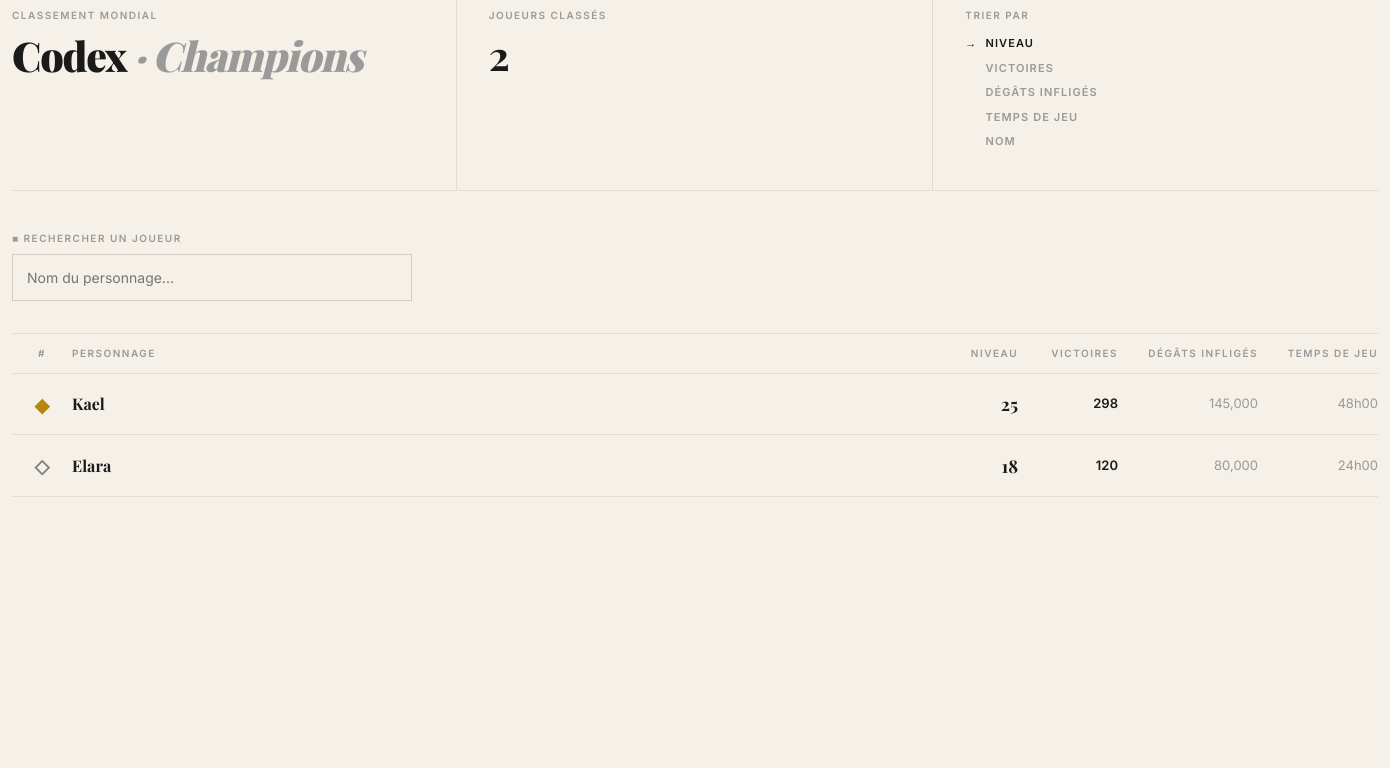
LeaderboardView › affiche un message si aucun résultat de recherche
Type "xxxxxx" into the field with placeholder "Nom du personnage..." at (212, 277), box top-left (12, 254), bottom-right (412, 300)
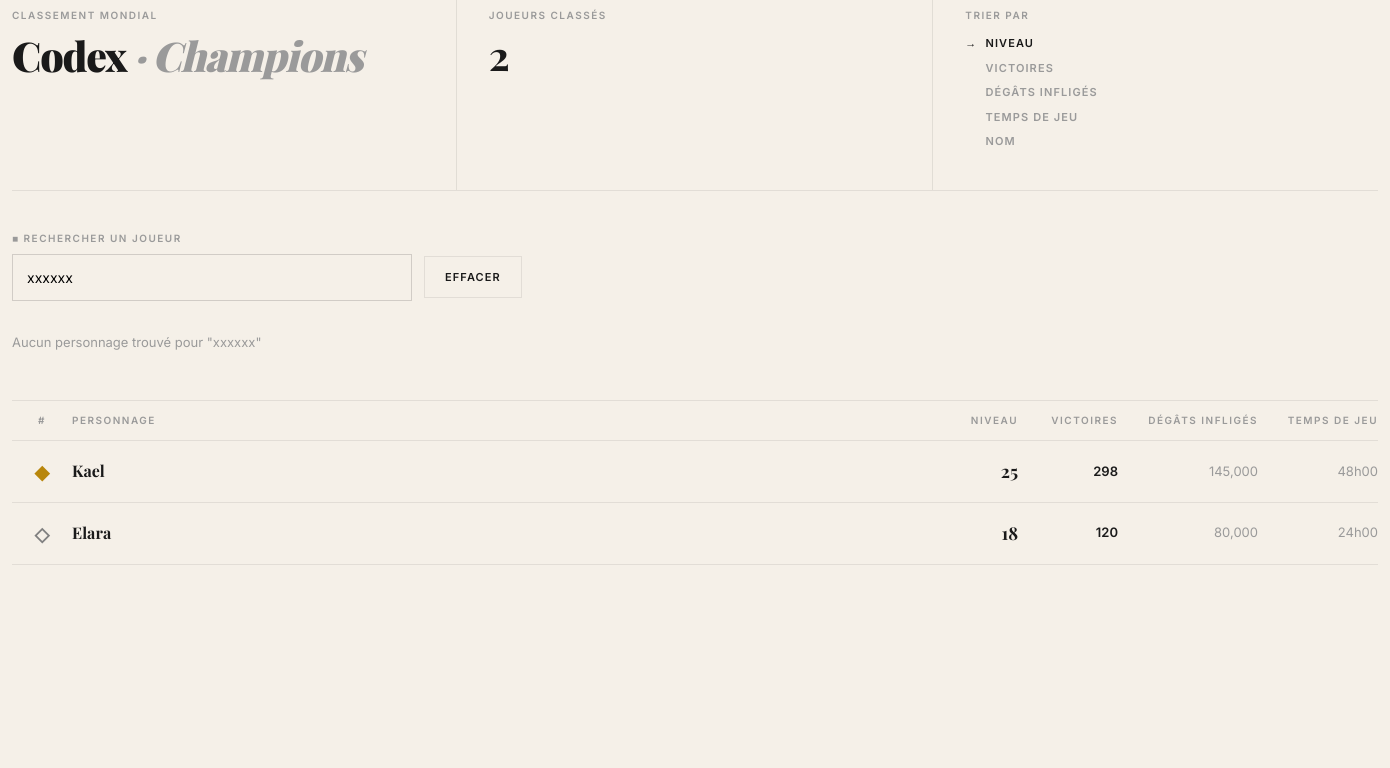
Now the text "xxxxxx" is shown, box top-left (12, 334), bottom-right (262, 350)
